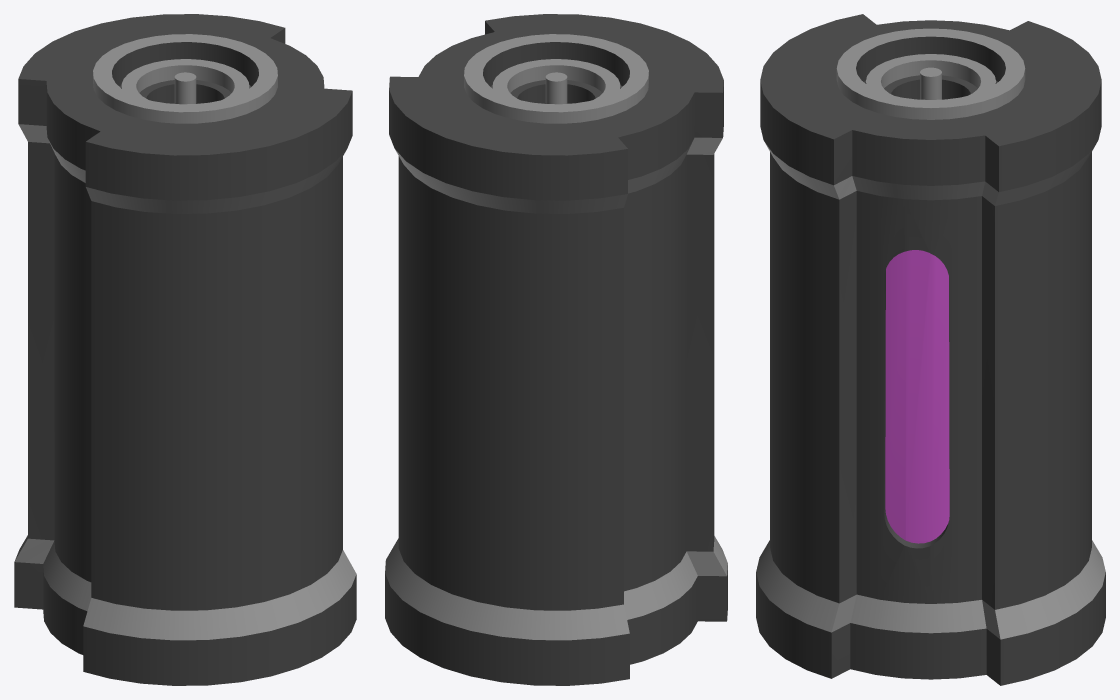
The model's file is Container1.fbx.
3 views of the same model, side by side, from view 1: azimuth 30°, elevation 25°; view 2: azimuth 150°, elevation 25°; view 3: azimuth 270°, elevation 25° (orthographic).
Parts seen in each view (by area): view 1: Container; view 2: Container; view 3: Container.
Part boxes in pixels (x1,y1,x2,y2): Container: [14, 14, 356, 685]; Container: [385, 14, 727, 685]; Container: [756, 14, 1105, 685].
Size of the model in its own units: 398 by 753 by 434.
